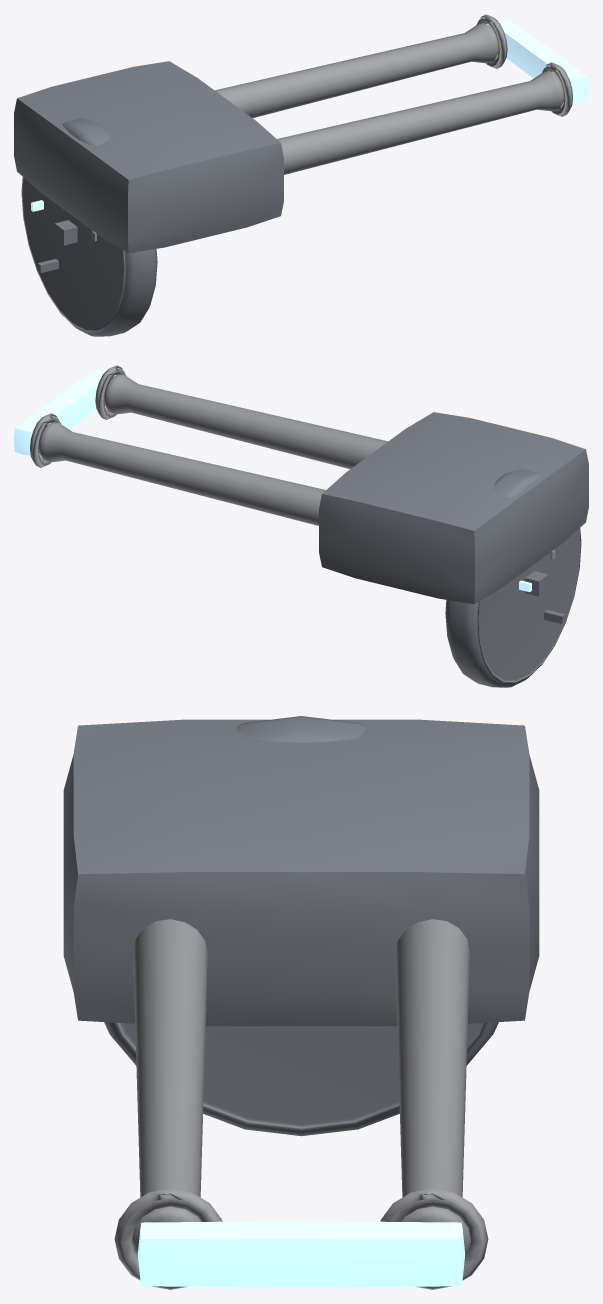
The model's file is weapon_turret_dual.glb.
3 renders of one model, top to bottom at view 1: azimuth 30°, elevation 25°; view 2: azimuth 150°, elevation 25°; view 3: azimuth 270°, elevation 25°, orthographic. The views are drawn at different scales.
Parts seen in each view (by area): view 1: Turret_Head, Turret_Base, Turret_Barrel_0.62, Turret_Barrel_-0.62, Turret_Charge_Block, Turret_Muzzle_-0.62, Turret_Muzzle_0.62, DET_gimbal_collar; view 2: Turret_Head, Turret_Base, Turret_Barrel_-0.62, Turret_Barrel_0.62, Turret_Charge_Block, Turret_Muzzle_0.62, Turret_Muzzle_-0.62, DET_gimbal_collar; view 3: Turret_Head, Turret_Base, Turret_Charge_Block, Turret_Barrel_-0.62, Turret_Barrel_0.62, Turret_Muzzle_-0.62, Turret_Muzzle_0.62.
Part boxes in pixels (x1=…): Turret_Head: x1=14, y1=61, x2=283, y2=252; Turret_Base: x1=21, y1=118, x2=157, y2=336; Turret_Barrel_0.62: x1=277, y1=71, x2=563, y2=174; Turret_Barrel_-0.62: x1=215, y1=23, x2=498, y2=118; Turret_Charge_Block: x1=491, y1=18, x2=588, y2=104; Turret_Muzzle_-0.62: x1=476, y1=14, x2=507, y2=68; Turret_Muzzle_0.62: x1=542, y1=62, x2=572, y2=116; DET_gimbal_collar: x1=54, y1=220, x2=77, y2=245; Turret_Head: x1=319, y1=412, x2=588, y2=603; Turret_Base: x1=445, y1=469, x2=581, y2=687; Turret_Barrel_-0.62: x1=39, y1=422, x2=325, y2=525; Turret_Barrel_0.62: x1=104, y1=374, x2=387, y2=469; Turret_Charge_Block: x1=14, y1=369, x2=111, y2=455; Turret_Muzzle_0.62: x1=95, y1=365, x2=126, y2=419; Turret_Muzzle_-0.62: x1=30, y1=413, x2=60, y2=467; DET_gimbal_collar: x1=525, y1=571, x2=548, y2=596; Turret_Head: x1=63, y1=719, x2=539, y2=1026; Turret_Base: x1=104, y1=716, x2=498, y2=1136; Turret_Charge_Block: x1=137, y1=1221, x2=465, y2=1287; Turret_Barrel_-0.62: x1=395, y1=919, x2=470, y2=1253; Turret_Barrel_0.62: x1=132, y1=919, x2=207, y2=1253; Turret_Muzzle_-0.62: x1=380, y1=1188, x2=488, y2=1289; Turret_Muzzle_0.62: x1=114, y1=1188, x2=222, y2=1289.
Bounding box in the file's own units: 5.58 × 2.1 × 2.25.
